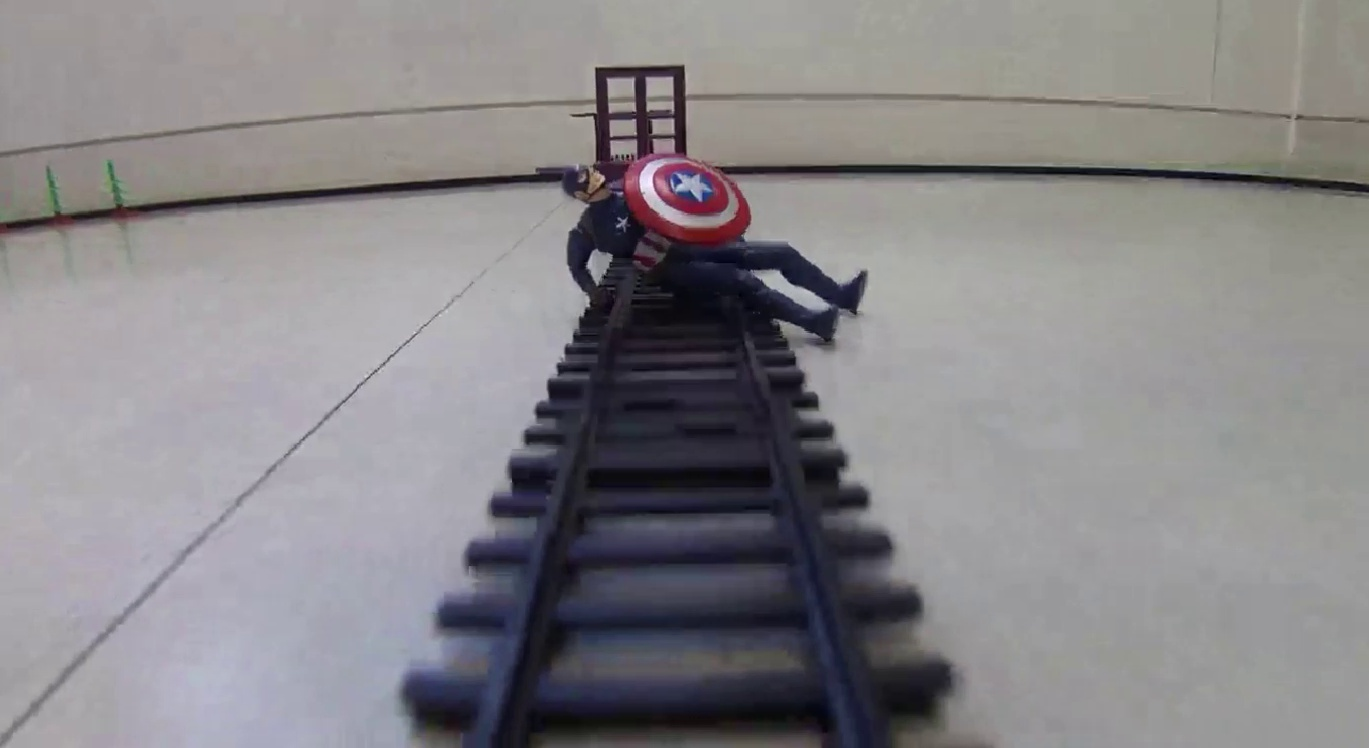people: (563, 149, 871, 350)
